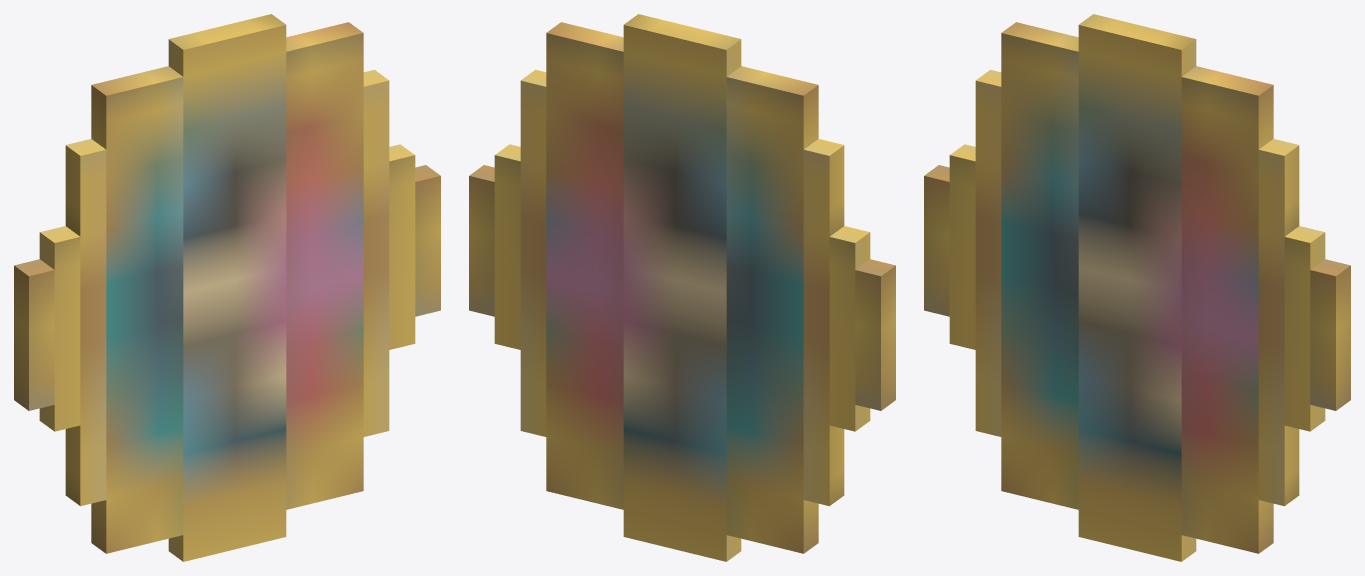
The model's file is FamilyPortrait_02.obj.
3 renders of one model, left to right at view 1: azimuth 30°, elevation 25°; view 2: azimuth 150°, elevation 25°; view 3: azimuth 330°, elevation 25°, orthographic.
Visible parts, largest first — view 1: FamilyPortrait_02; view 2: FamilyPortrait_02; view 3: FamilyPortrait_02.
Boxes of the visible parts, x1,y1,x2,y2 form: FamilyPortrait_02: [14, 14, 440, 561]; FamilyPortrait_02: [469, 14, 895, 561]; FamilyPortrait_02: [924, 14, 1350, 561].
Bounding box in the file's own units: 0.8 × 0.95 × 0.05.
